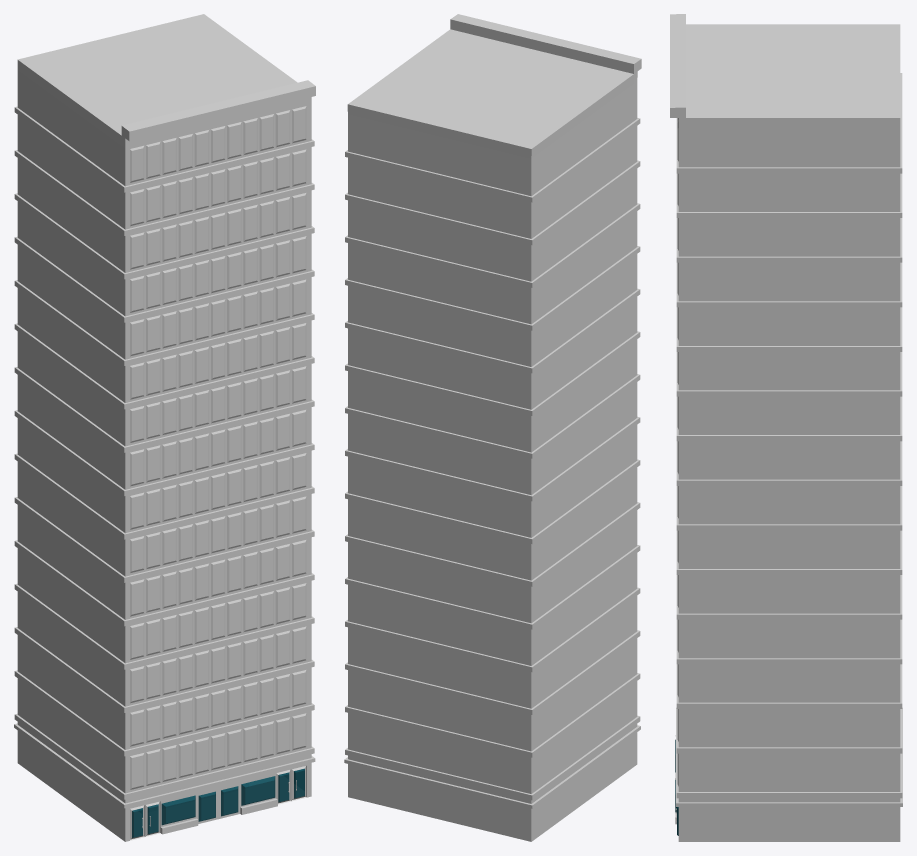
The model's file is building_office_02_large.fbx.
3 views of the same model, side by side, from view 1: azimuth 30°, elevation 25°; view 2: azimuth 150°, elevation 25°; view 3: azimuth 270°, elevation 25° (orthographic). The views are drawn at different scales.
Parts seen in each view (by area): view 1: building_office_02_large, building_office_02_large_glass; view 2: building_office_02_large; view 3: building_office_02_large.
Part boxes in pixels (left/top/right/bottom): building_office_02_large: left=14, top=14, right=315, bottom=841; building_office_02_large_glass: left=132, top=768, right=304, bottom=837; building_office_02_large: left=344, top=14, right=641, bottom=841; building_office_02_large: left=670, top=14, right=902, bottom=841.
Bounding box in the file's own units: 1844 × 6583 × 1893.
